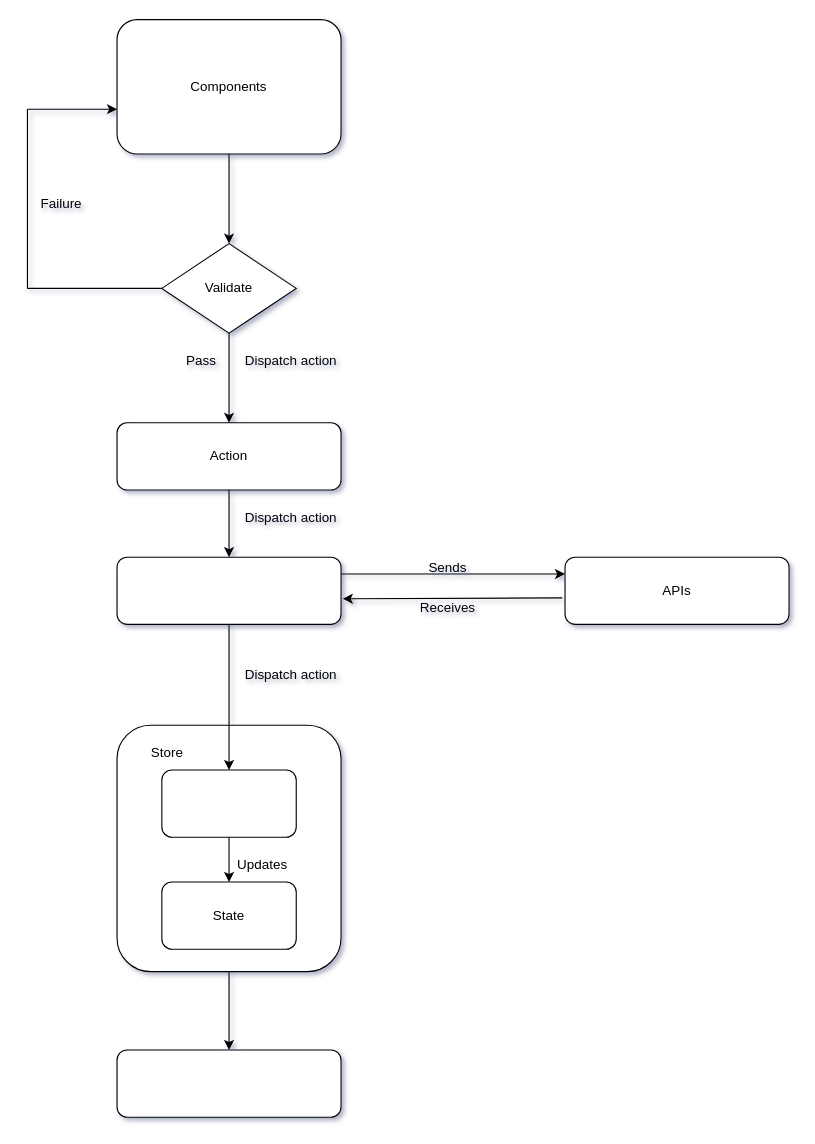
Image size: 815x1144. Some labels were removed from this diagram. The box of each missing label's shape, as (x1, y1, x2, y2) in pixels:
End: (116, 1049, 341, 1117)
Reducer: (161, 769, 296, 837)
Redux-saga: (116, 556, 341, 624)
